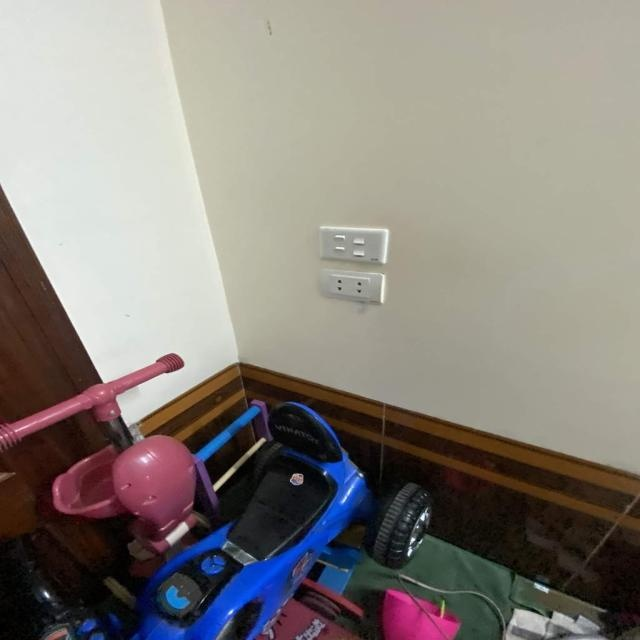outlet: (319, 267, 385, 305)
